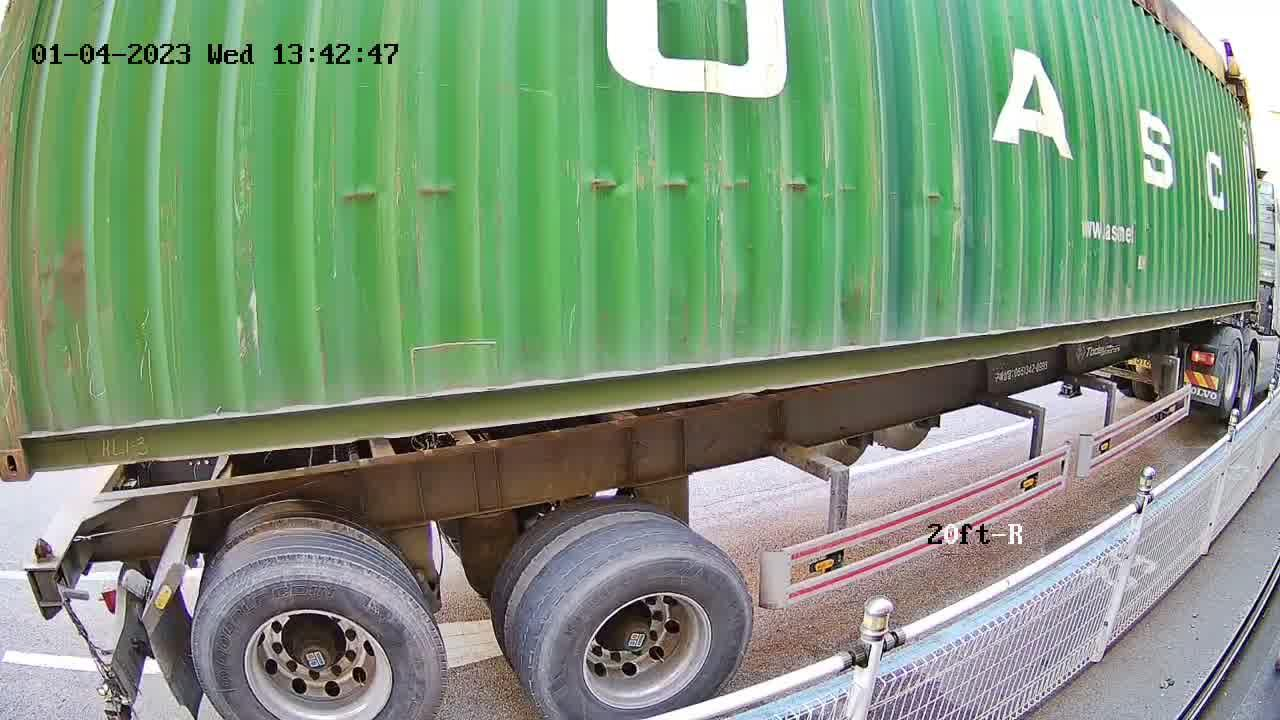Chassis: (23, 466, 119, 570)
Cone: (21, 536, 67, 609)
Hole_L: (1, 404, 75, 479)
Tire: (191, 554, 446, 719), (536, 537, 752, 719)
